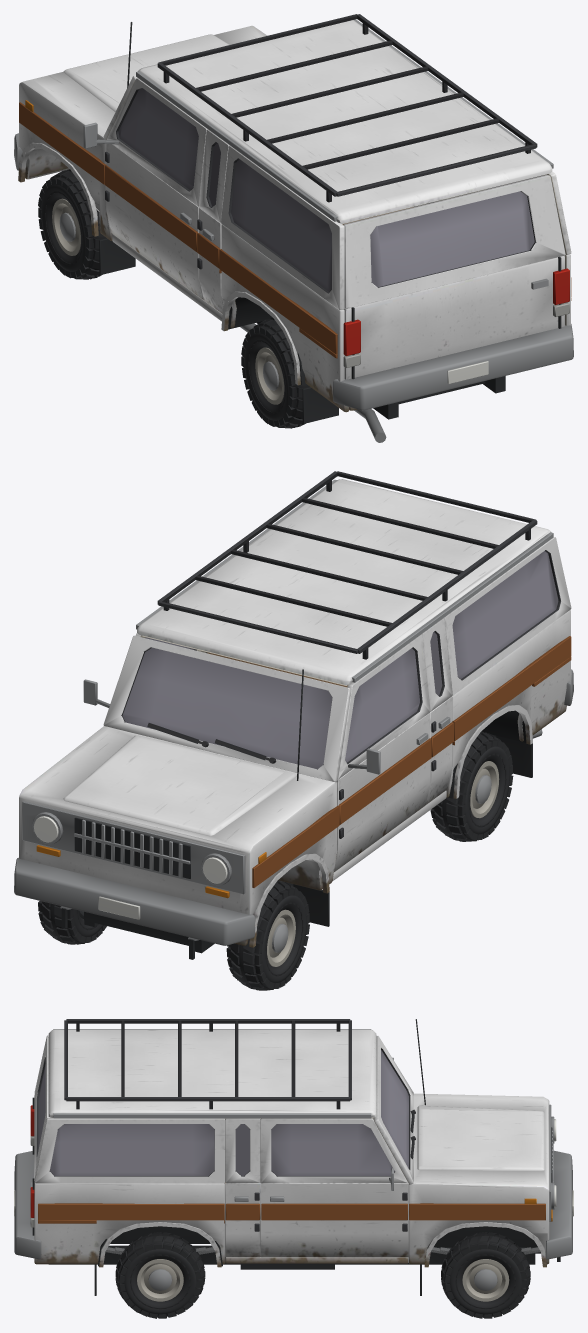
Rendered from grandwagon.glb.
3 renders of one model, top to bottom at view 1: azimuth 30°, elevation 25°; view 2: azimuth 150°, elevation 25°; view 3: azimuth 270°, elevation 25°, orthographic. The views are drawn at different scales.
Parts seen in each view (by area): view 1: body, door_FL, wheel_FL, wheel_RL, door_RL; view 2: body, door_FL, wheel_FL, wheel_RL, door_RL, wheel_FR; view 3: body, door_FR, wheel_RR, wheel_FR, door_RR.
Boxes of the visible parts, x1,y1,x2,y2 form: body: (14, 14, 573, 442); door_FL: (83, 78, 207, 299); wheel_FL: (38, 169, 106, 279); wheel_RL: (241, 318, 309, 428); door_RL: (197, 129, 229, 313); body: (14, 471, 573, 959); door_FL: (334, 634, 431, 871); wheel_FL: (226, 880, 309, 990); wheel_RL: (430, 731, 513, 841); door_RL: (421, 618, 453, 804); wheel_FR: (38, 901, 106, 944); body: (14, 1019, 573, 1295); door_FR: (260, 1118, 408, 1257); wheel_RR: (115, 1232, 205, 1318); wheel_FR: (441, 1232, 530, 1318); door_RR: (225, 1118, 260, 1257).
Bounding box in the file's own units: 2.32 × 2.12 × 4.75.
17 materials, 1 textured.
